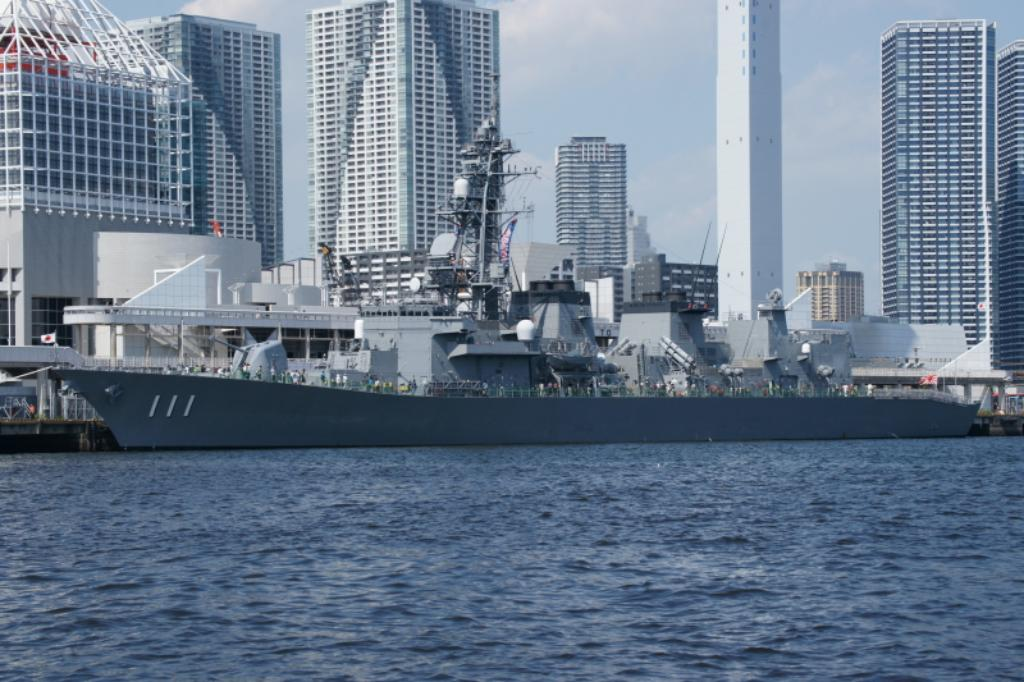Warship: (44, 117, 982, 452)
